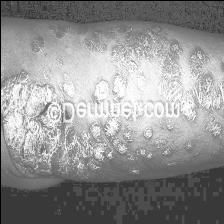Non-Cancerous Skin Condition: (89, 37, 224, 100), (0, 28, 49, 170), (54, 120, 130, 168)
